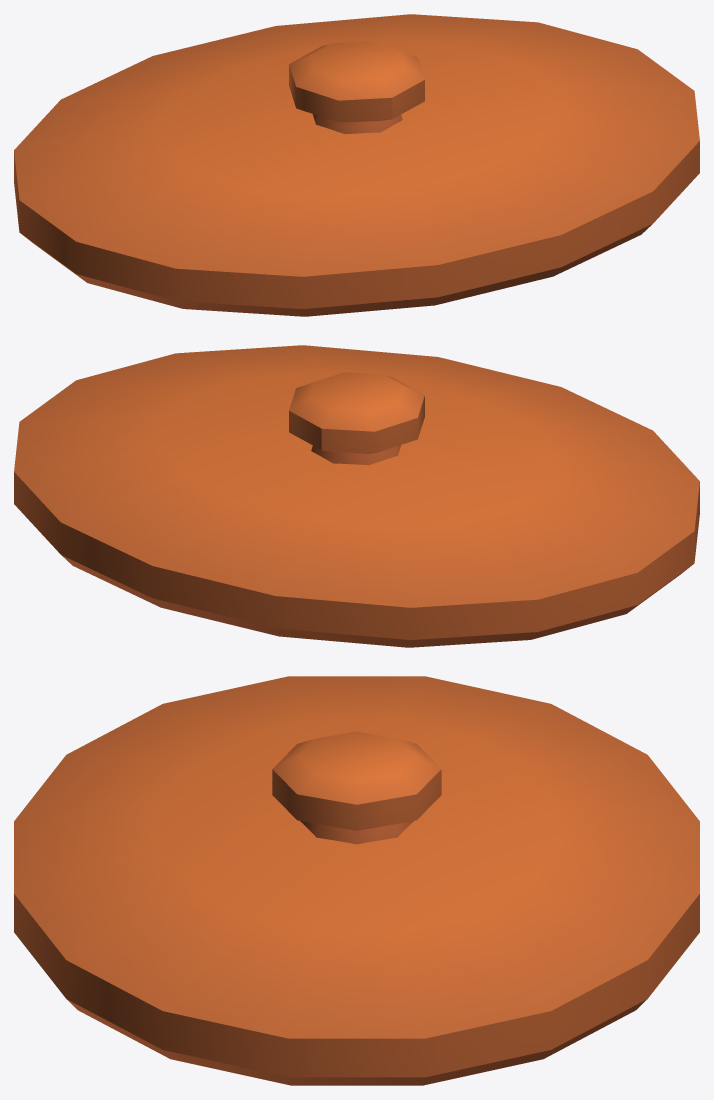
The model's file is kay-lid_large.glb.
3 renders of one model, top to bottom at view 1: azimuth 30°, elevation 25°; view 2: azimuth 150°, elevation 25°; view 3: azimuth 270°, elevation 25°, orthographic. The views are drawn at different scales.
Visible parts, largest first — view 1: lid_large; view 2: lid_large; view 3: lid_large.
Boxes of the visible parts, <box> form: lid_large: <box>14,14,699,316</box>; lid_large: <box>14,345,699,647</box>; lid_large: <box>14,676,699,1085</box>.
Bounding box in the file's own units: 0.22 × 0.044 × 0.176.
1 material, 1 textured.
